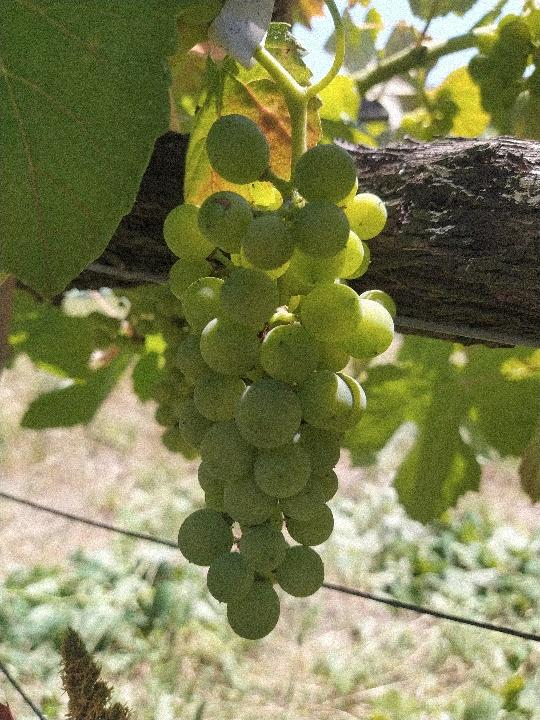grape: (163, 114, 400, 642)
